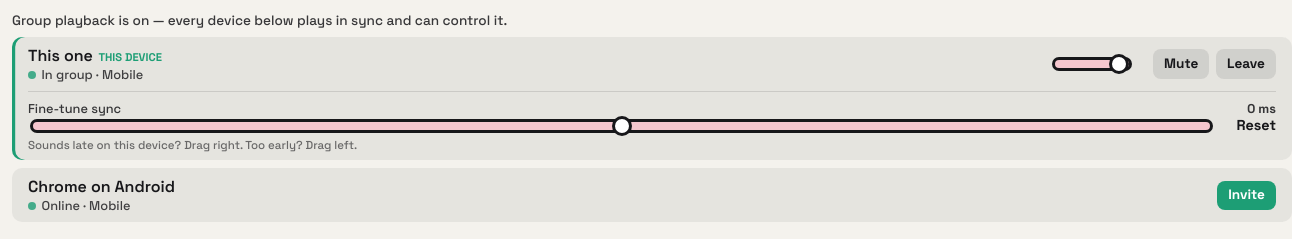
Test: Devices panel — membership buttons › the Invite button reports the pending invite and refuses a second tap
Click the button "Invite" at (1246, 195), box top-left (1217, 181), bottom-right (1276, 210)
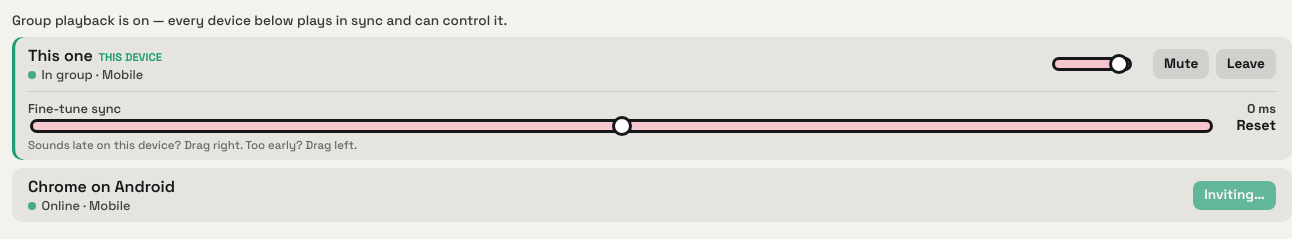
Now the button "Inviting…" is shown
Now the button "Inviting…" is disabled
Click the button "Inviting…" at (1235, 195), box top-left (1193, 181), bottom-right (1276, 210)
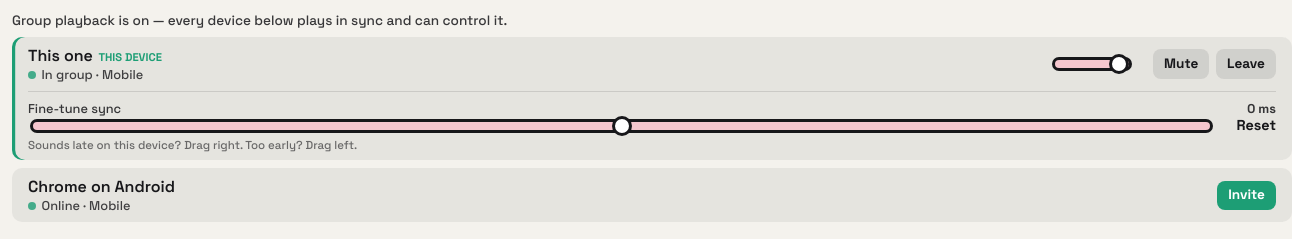
Now the button "Invite" is enabled, box top-left (1217, 181), bottom-right (1276, 210)
